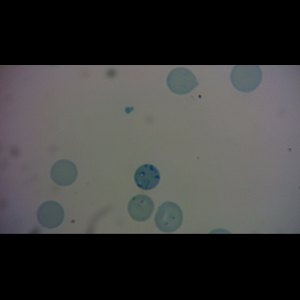aggregate reticulocyte: (133, 163, 161, 191)
erythrocyte: (230, 65, 263, 93), (49, 158, 78, 187), (36, 200, 65, 229)
punctate reticulocyte: (154, 200, 183, 233), (166, 67, 199, 95), (128, 194, 154, 221)
